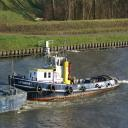tugboat: (9, 48, 121, 108)
